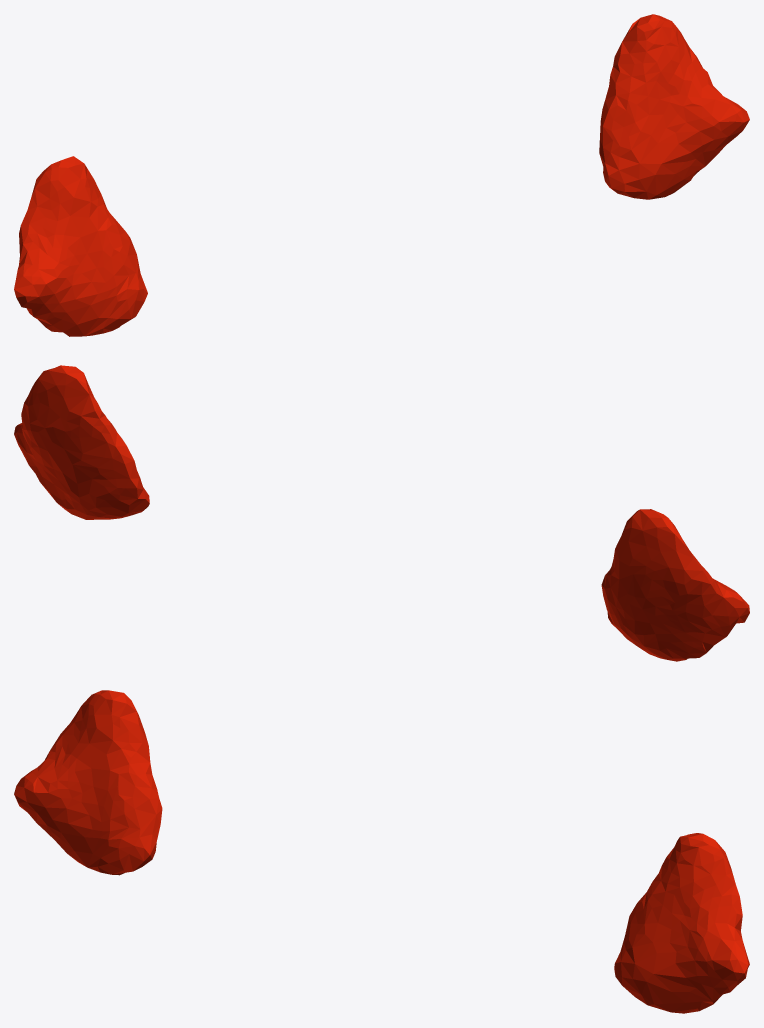
The model's file is 225-TPOC-temporal parietooccipital associated area in sts, caudal part-('1.0000', '0.1529', '0.0000').obj.
3 renders of one model, top to bottom at view 1: azimuth 30°, elevation 25°; view 2: azimuth 150°, elevation 25°; view 3: azimuth 330°, elevation 25°, orthographic.
Bounding box in the file's own units: 273 × 58.73 × 23.02.
